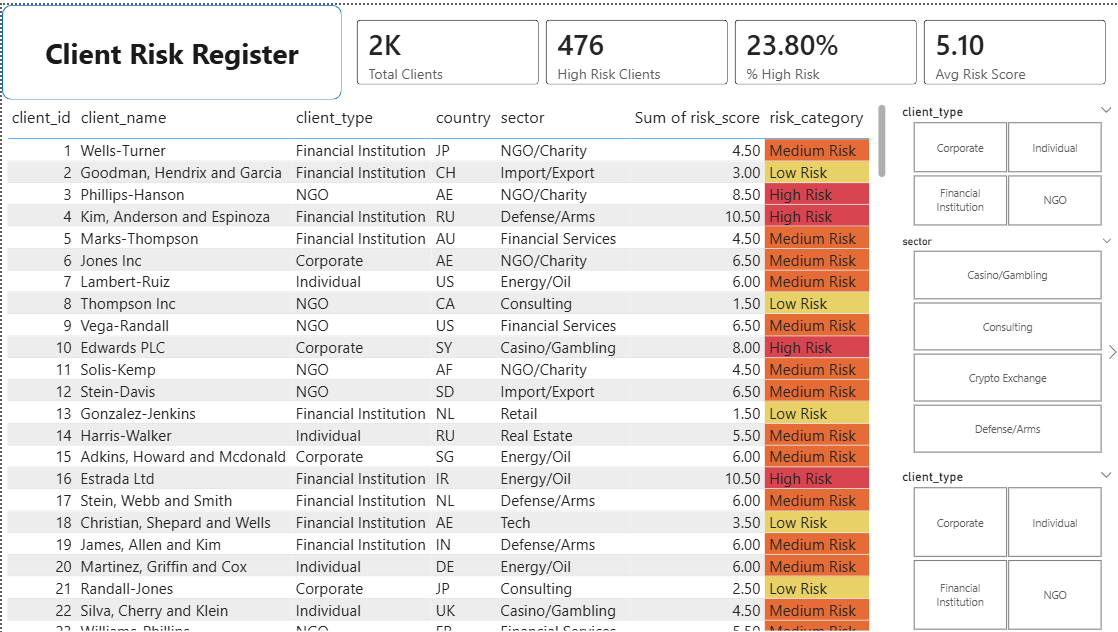

This screenshot's page, from the dashboard's own definition file:
{"tool":"powerbi","page":{"name":"Page 2","canvas":[1280,720],"ordinal":1},"visuals":[{"type":"shape","box":[0,0,388.3,108.3],"z":0},{"type":"tableEx","fields":{"Values":["kyc.client_id","kyc.client_name","kyc.client_type","kyc.country","kyc.sector","Sum(kyc.risk_score)","kyc.risk_category"]},"box":[0,108.3,1015,611.7],"z":1},{"type":"cardVisual","fields":{"Data":["kyc.Total Clients","kyc.High Risk Clients","kyc.% High Risk","kyc.Avg Risk Score"]},"box":[388.3,0,891.7,108.3],"z":2},{"type":"slicer","fields":{"Values":["kyc.client_type"]},"box":[1015,108.3,265,150],"z":3},{"type":"slicer","fields":{"Values":["kyc.sector"]},"box":[1015,258.3,265,260],"z":4},{"type":"slicer","fields":{"Values":["kyc.client_type"]},"box":[1015,525,265,195],"z":5}]}

Visuals, with their boxes in screenshot pixels (x1, y1, x2, y2), scaled from the page's 1280x720 canvas onto the 1118x632 screenshot:
shape: 0, 0, 339, 95
tableEx - kyc.client_id x kyc.client_name: 0, 95, 887, 631
cardVisual - kyc.Total Clients x kyc.High Risk Clients: 339, 0, 1117, 95
slicer - kyc.client_type: 887, 95, 1117, 227
slicer - kyc.sector: 887, 227, 1117, 455
slicer - kyc.client_type: 887, 461, 1117, 631
